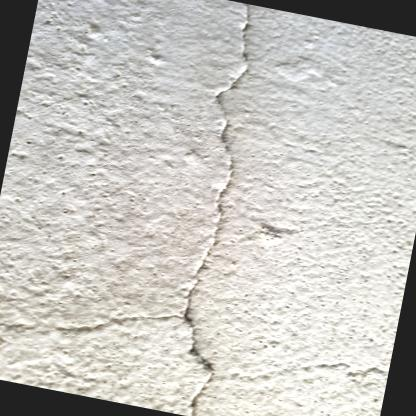crack: (0, 2, 253, 416)
